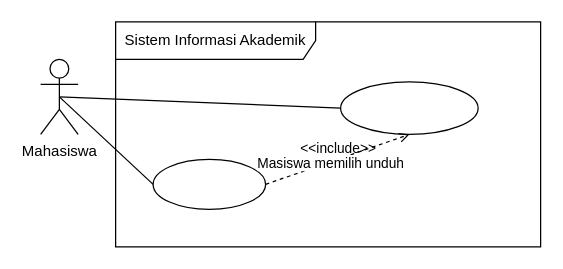
The diagram is 563 pixels wide and 269 high, and some of its shapes have lost their labels. The shapes that lost their labels are listed below. From the top down, each one's centre as x and y in pixels, then its label:
(x=408, y=107): SIA-UC03: Ajukan KRS
(x=209, y=183): SIA-UC05: Unduh Bukti
